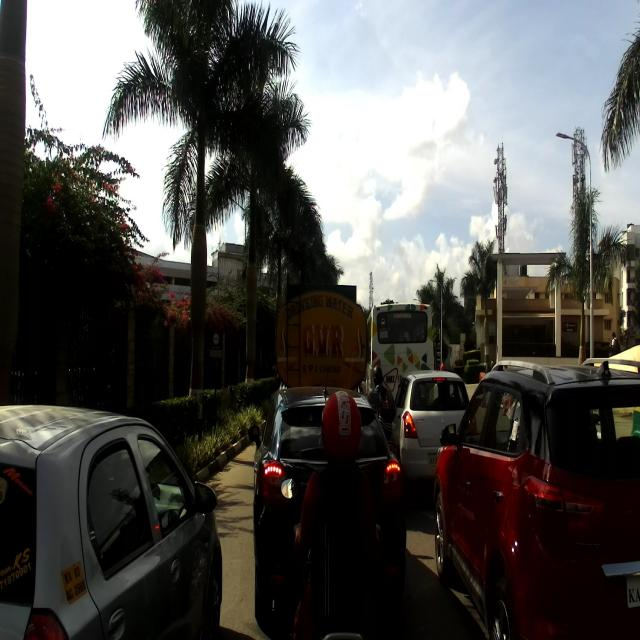car: (432, 356, 640, 640), (0, 400, 224, 639), (248, 366, 406, 624), (386, 366, 471, 506)
scooter: (280, 478, 390, 638)
